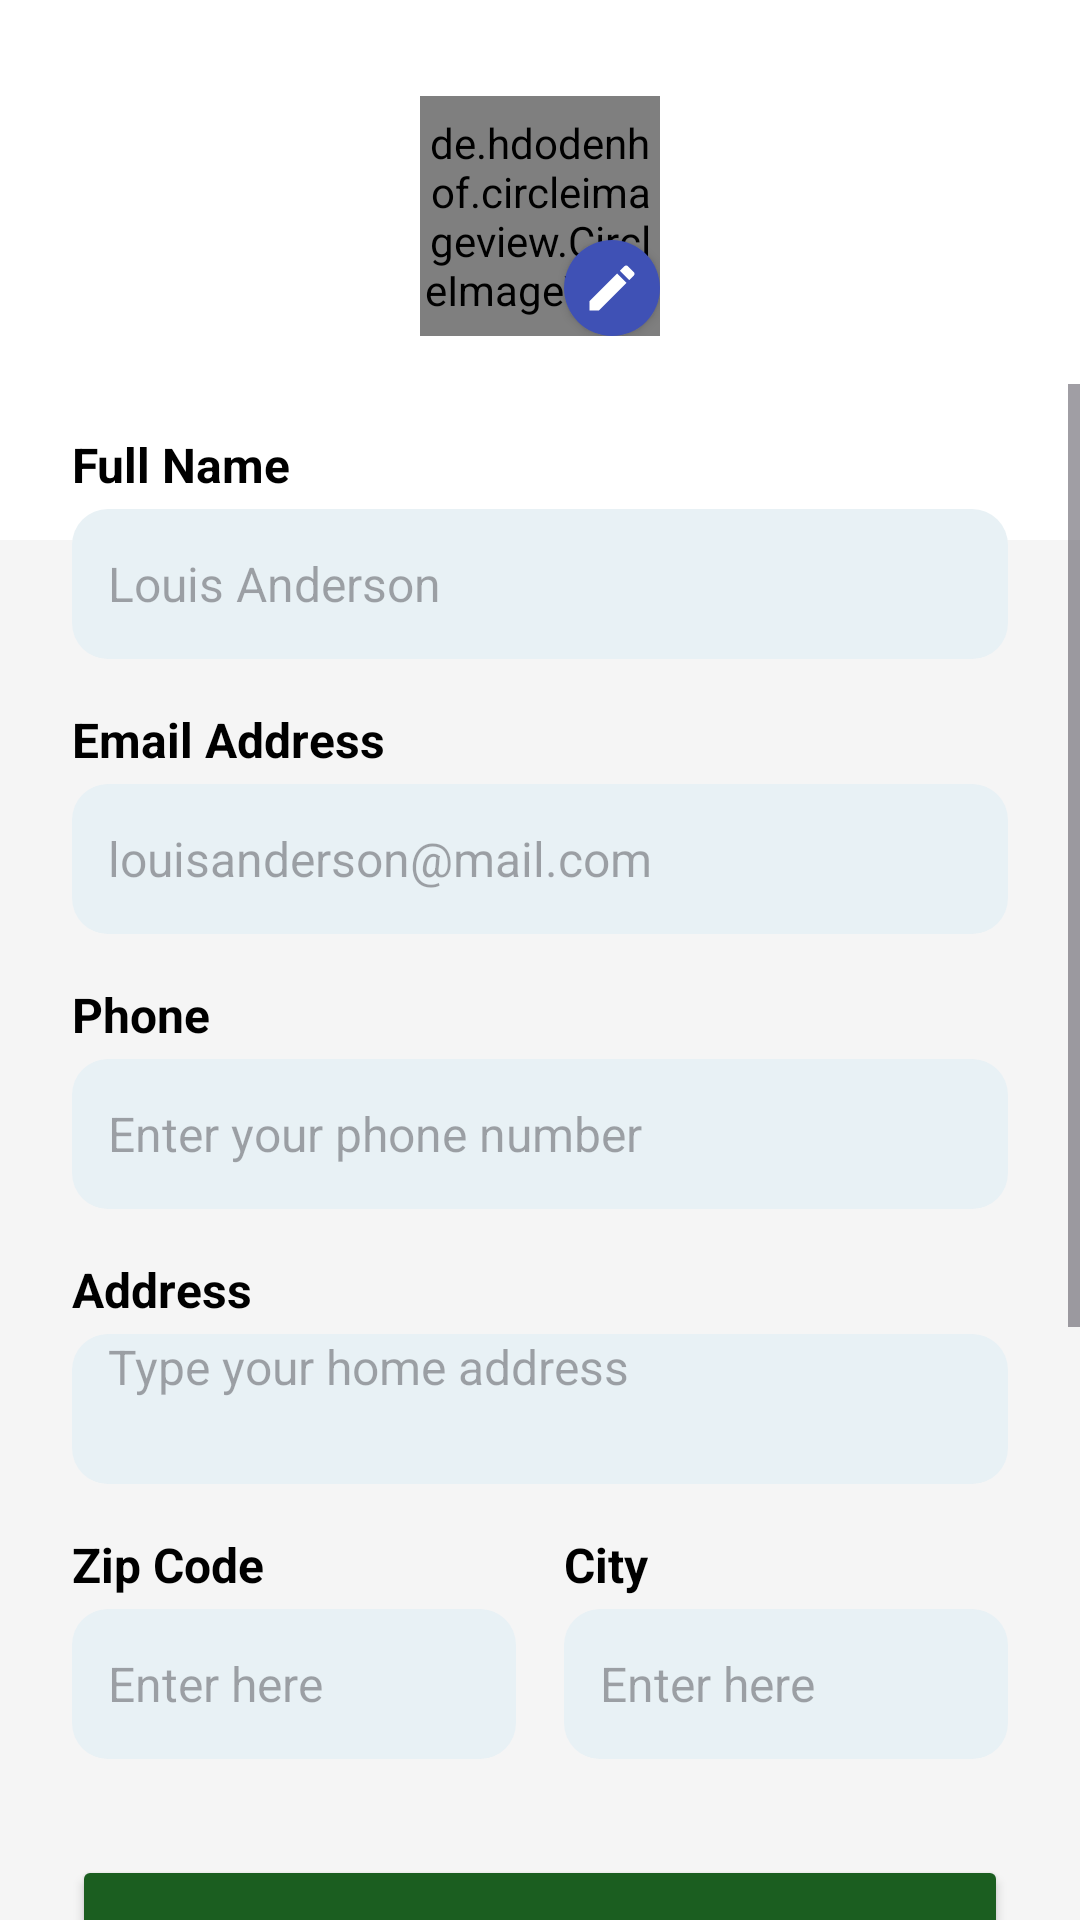

Named icons in this screenshot (1080px x 1920px) and their centers, (x,y):
edit: (612,288)
